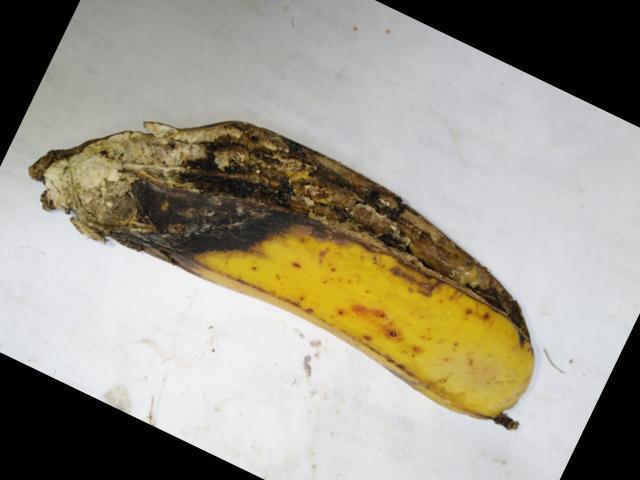rotten: (33, 108, 356, 265), (288, 156, 541, 344)
